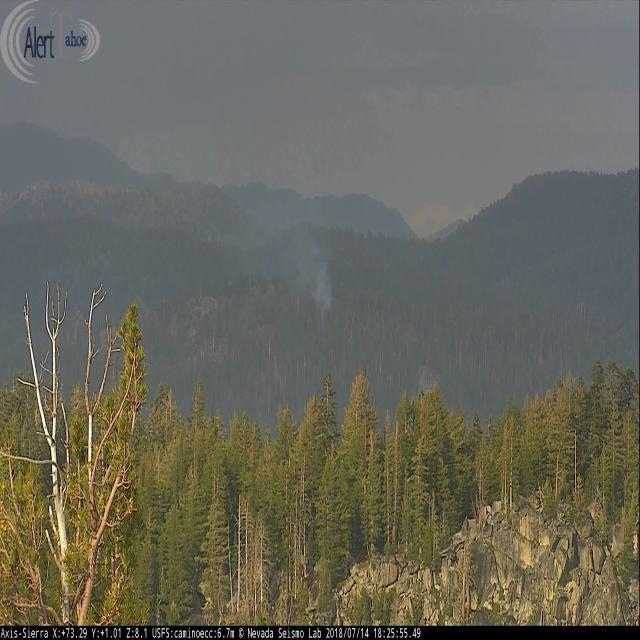smoke: (215, 164, 334, 316)
